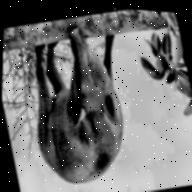boar: (0, 0, 140, 192)
